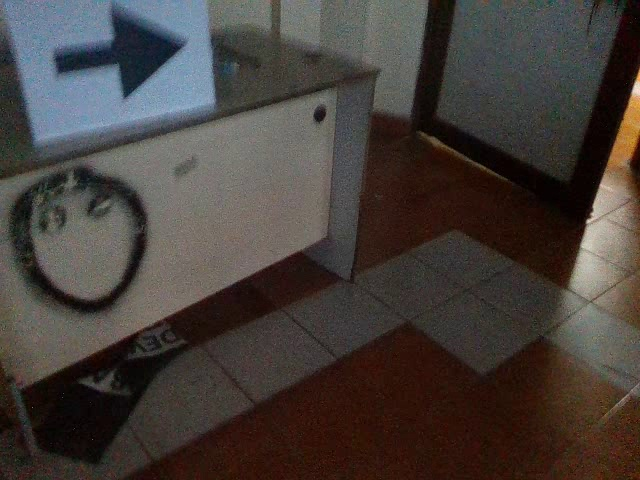Right: (46, 0, 190, 100)
